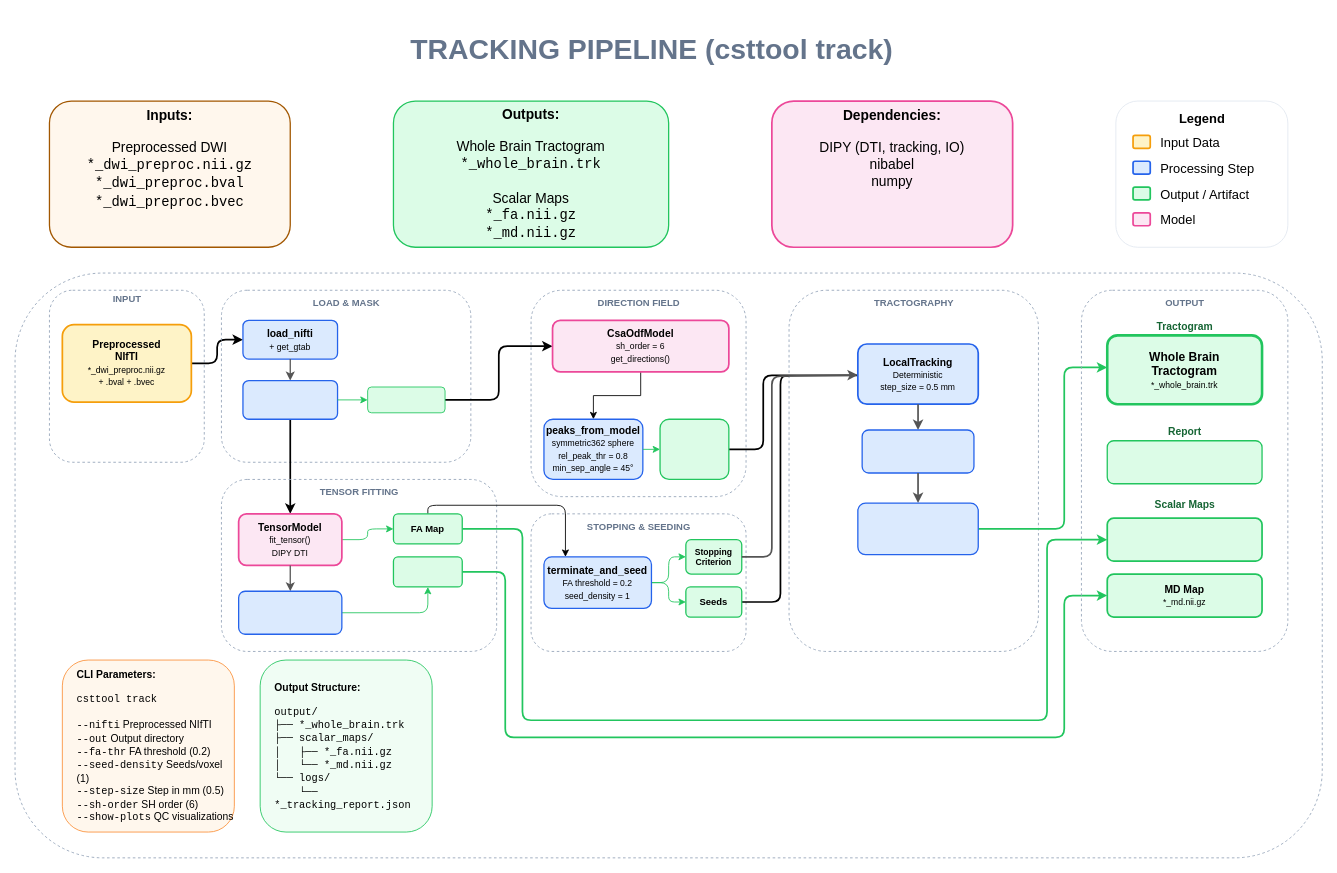
Image size: 1337x873. Some labels were removed from this diagram. Here are the shapes that lost their labels. From the top down, the box of each, then its label:
(242, 380, 338, 420): Brain Mask median_otsu
(367, 386, 445, 413): brain_mask
(659, 418, 729, 480): Direction Field PeaksAndMetrics
(861, 429, 974, 473): Streamlines() generator
(1106, 440, 1262, 484): Tracking Report *_tracking_report.json
(857, 502, 979, 555): save_tractogram_trk StatefulTractogram Space.RASMM
(1106, 517, 1262, 562): FA Map *_fa.nii.gz
(392, 556, 463, 587): MD Map
(238, 590, 342, 635): compute_ measures
